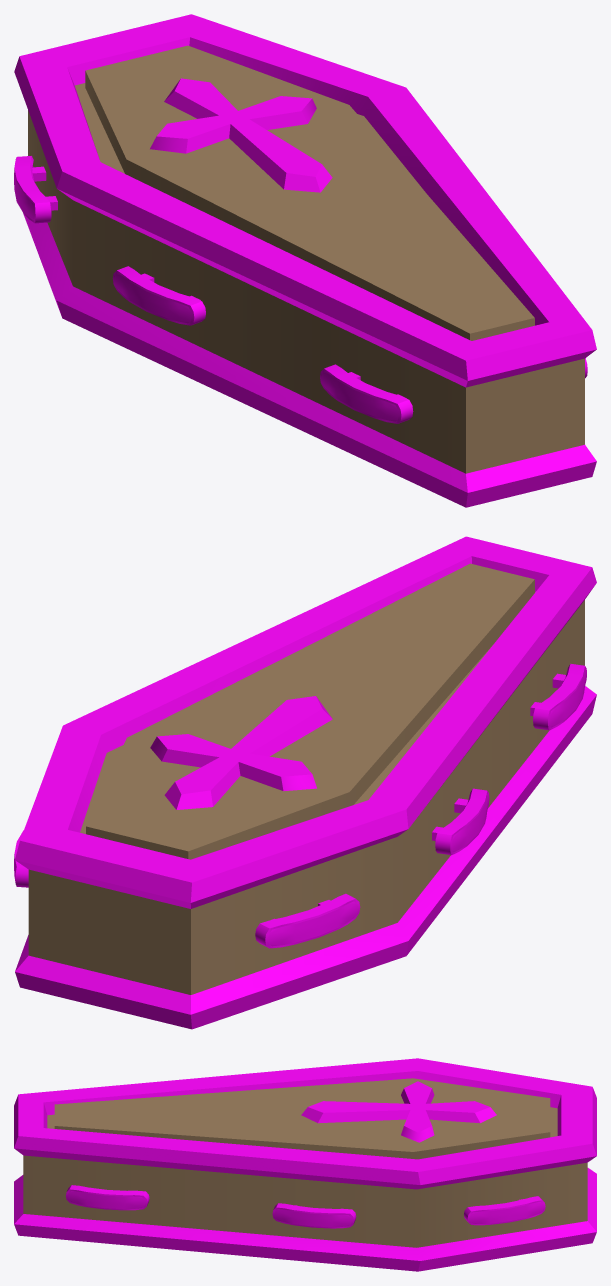
Rendered from Coffin.fbx.
3 views of the same model, one above another, from view 1: azimuth 30°, elevation 25°; view 2: azimuth 150°, elevation 25°; view 3: azimuth 270°, elevation 25° (orthographic). The views are drawn at different scales.
Visible parts, largest first — view 1: CoffinBase1; view 2: CoffinBase1; view 3: CoffinBase1.
Part boxes in pixels (<box>): CoffinBase1: <box>14,14,596,507</box>; CoffinBase1: <box>14,536,596,1029</box>; CoffinBase1: <box>14,1058,596,1271</box>.
Bounding box in the file's own units: 2.63 × 1.14 × 5.58.
